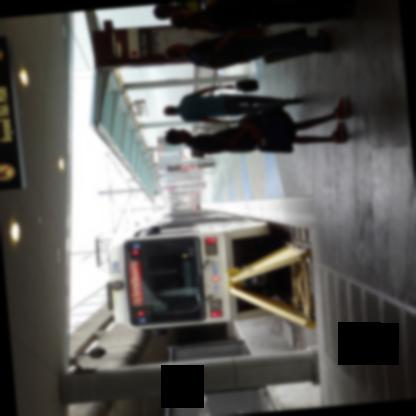backpack: (190, 46, 249, 69)
handbag: (251, 103, 297, 153), (261, 50, 313, 64), (231, 77, 260, 92), (236, 112, 262, 125)
suitcase: (258, 25, 314, 64), (256, 105, 297, 152), (235, 77, 260, 92)
